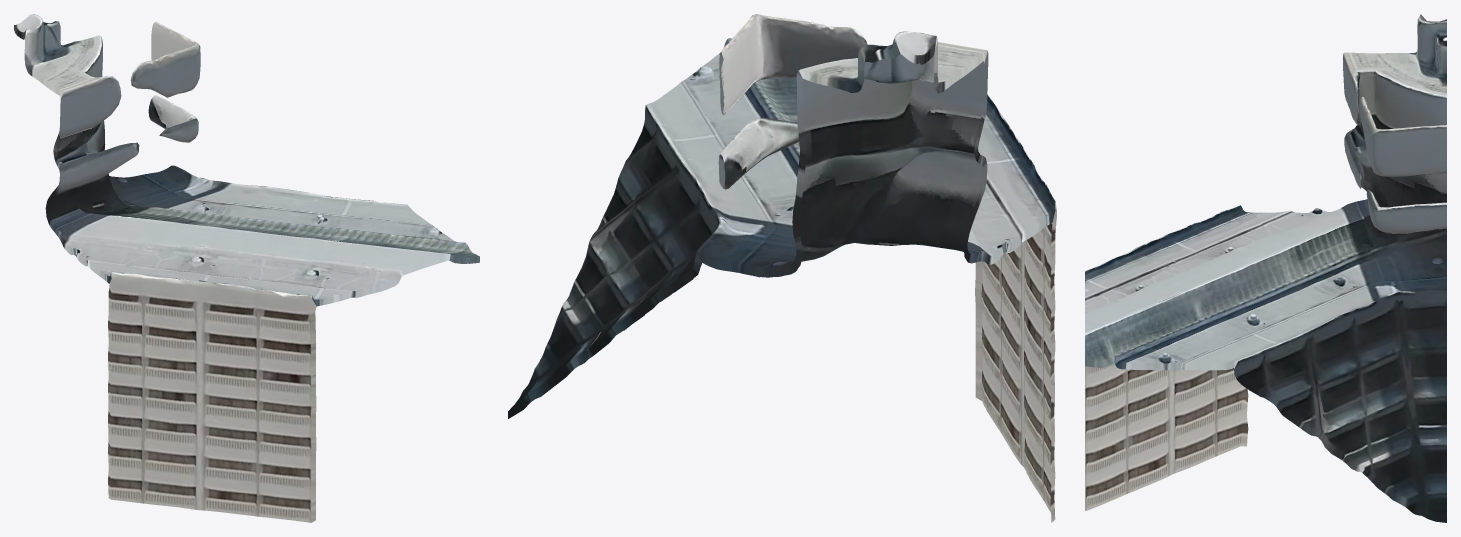
File: z20-167784-405225-h1-yup-uvflip-v3-world.glb
3 renders of one model, left to right at view 1: azimuth 30°, elevation 25°; view 2: azimuth 150°, elevation 25°; view 3: azimuth 270°, elevation 25°, orthographic. The views are drawn at different scales.
Bounding box in the file's own units: 30.16 × 40.2 × 30.32.
1 material, 1 textured.
